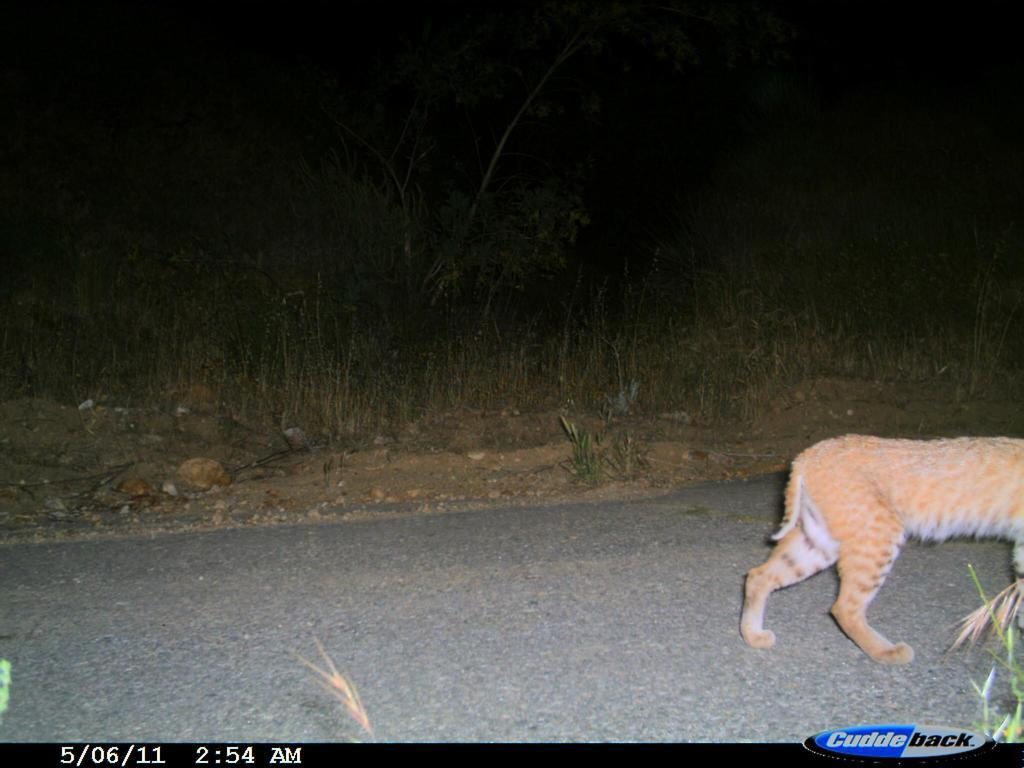bobcat: (732, 426, 1022, 676)
